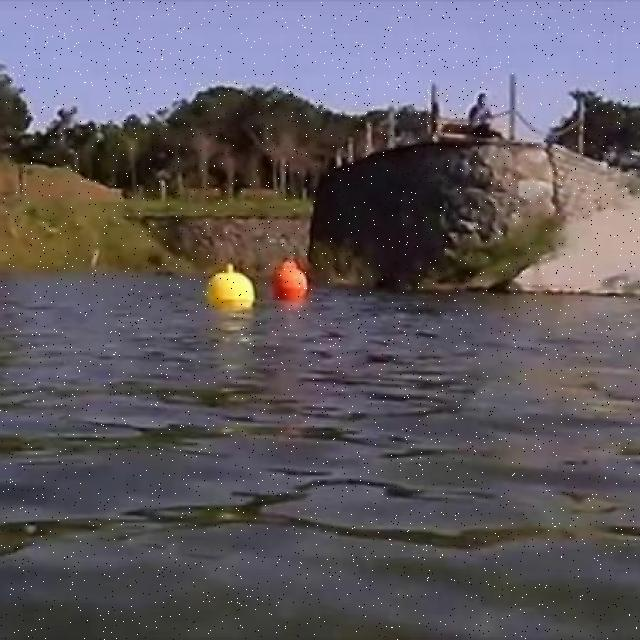buoy: (206, 262, 256, 311), (273, 262, 307, 300)
